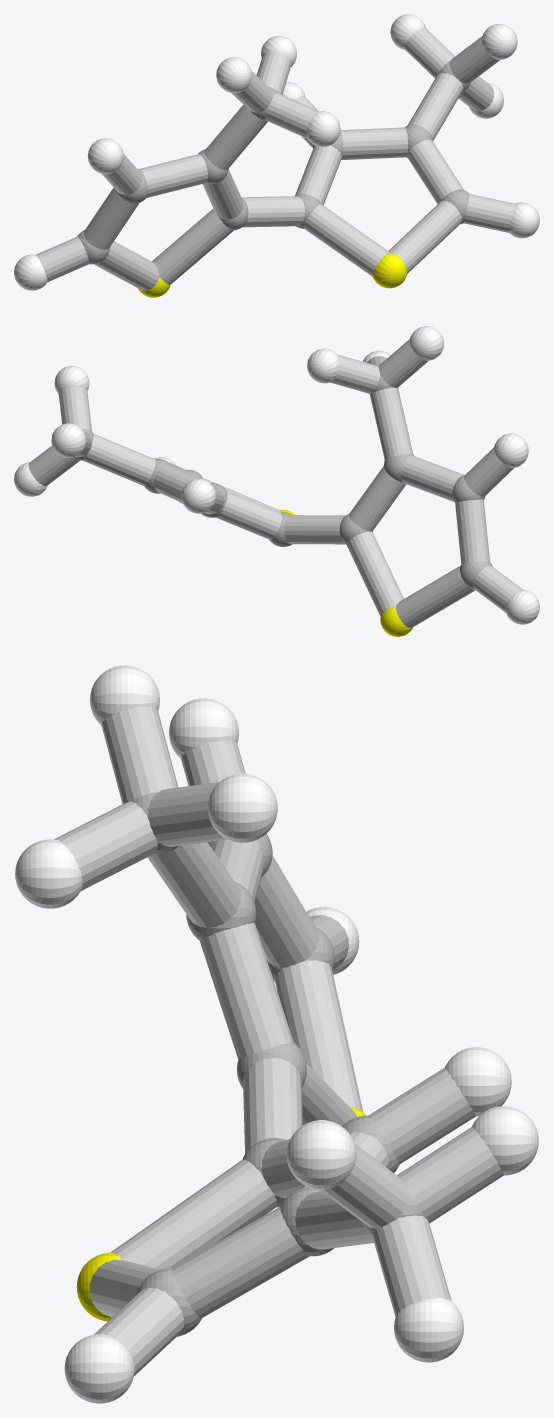
Rendered from Methylthiophene_Phi_20_Theta_100_Methylthiophene.glb.
3 renders of one model, top to bottom at view 1: azimuth 30°, elevation 25°; view 2: azimuth 150°, elevation 25°; view 3: azimuth 270°, elevation 25°, orthographic. The views are drawn at different scales.
Parts seen in each view (by area): view 1: grp7965, grp3621, grp1, grp7241; view 2: grp7965, grp3621, grp1, grp7241; view 3: grp7965, grp3621, grp1, grp7241.
Part boxes in pixels (left/top/right/bottom): grp7965: left=35, top=27, right=514, bottom=290; grp3621: left=14, top=14, right=539, bottom=290; grp1: left=77, top=61, right=470, bottom=264; grp7241: left=138, top=252, right=407, bottom=297; grp7965: left=28, top=339, right=522, bottom=627; grp3621: left=14, top=326, right=539, bottom=624; grp1: left=73, top=365, right=492, bottom=589; grp7241: left=279, top=510, right=412, bottom=636; grp7965: left=54, top=706, right=503, bottom=1376; grp3621: left=15, top=665, right=538, bottom=1403; grp1: left=131, top=792, right=423, bottom=1336; grp7241: left=76, top=1107, right=365, bottom=1321.
Size of the model in its own units: 9.78 by 4.95 by 4.48.
